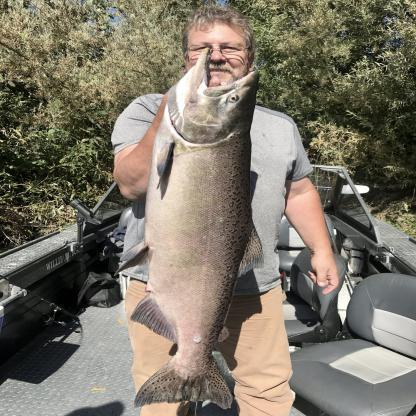fish: (116, 48, 258, 411)
